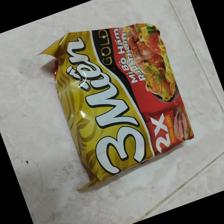3mien: (34, 22, 196, 191)
